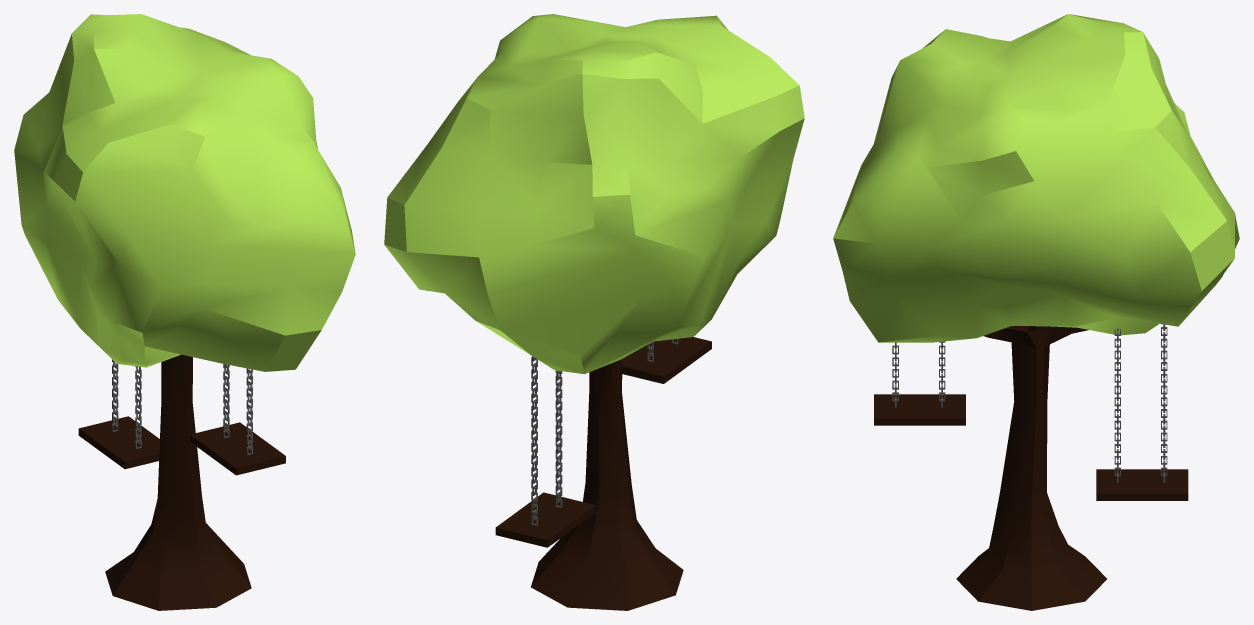
Rendered from tree.fbx.
3 renders of one model, left to right at view 1: azimuth 30°, elevation 25°; view 2: azimuth 150°, elevation 25°; view 3: azimuth 270°, elevation 25°, orthographic. The views are drawn at different scales.
Visible parts, largest first — view 1: Tree, Plate, Plate_2, Short_Chain_1, Long_Chain_2; view 2: Tree, Plate_2, Plate, Long_Chain_1, Long_Chain_2; view 3: Tree, Plate_2, Plate, Long_Chain_1, Long_Chain_2.
Boxes of the visible parts, x1=… form: Tree: x1=14, y1=14, x2=355, y2=610; Plate: x1=190, y1=422, x2=285, y2=475; Plate_2: x1=78, y1=416, x2=159, y2=469; Short_Chain_1: x1=246, y1=368, x2=252, y2=455; Long_Chain_2: x1=135, y1=366, x2=141, y2=448; Tree: x1=384, y1=14, x2=804, y2=610; Plate_2: x1=495, y1=492, x2=595, y2=547; Plate: x1=622, y1=337, x2=711, y2=383; Long_Chain_1: x1=531, y1=356, x2=537, y2=525; Long_Chain_2: x1=555, y1=370, x2=562, y2=507; Tree: x1=833, y1=14, x2=1239, y2=610; Plate_2: x1=1096, y1=469, x2=1188, y2=500; Plate: x1=874, y1=394, x2=965, y2=425; Long_Chain_1: x1=1161, y1=324, x2=1167, y2=482; Long_Chain_2: x1=1114, y1=328, x2=1120, y2=482.
Bounding box in the file's own units: 1092 × 2016 × 1388.
